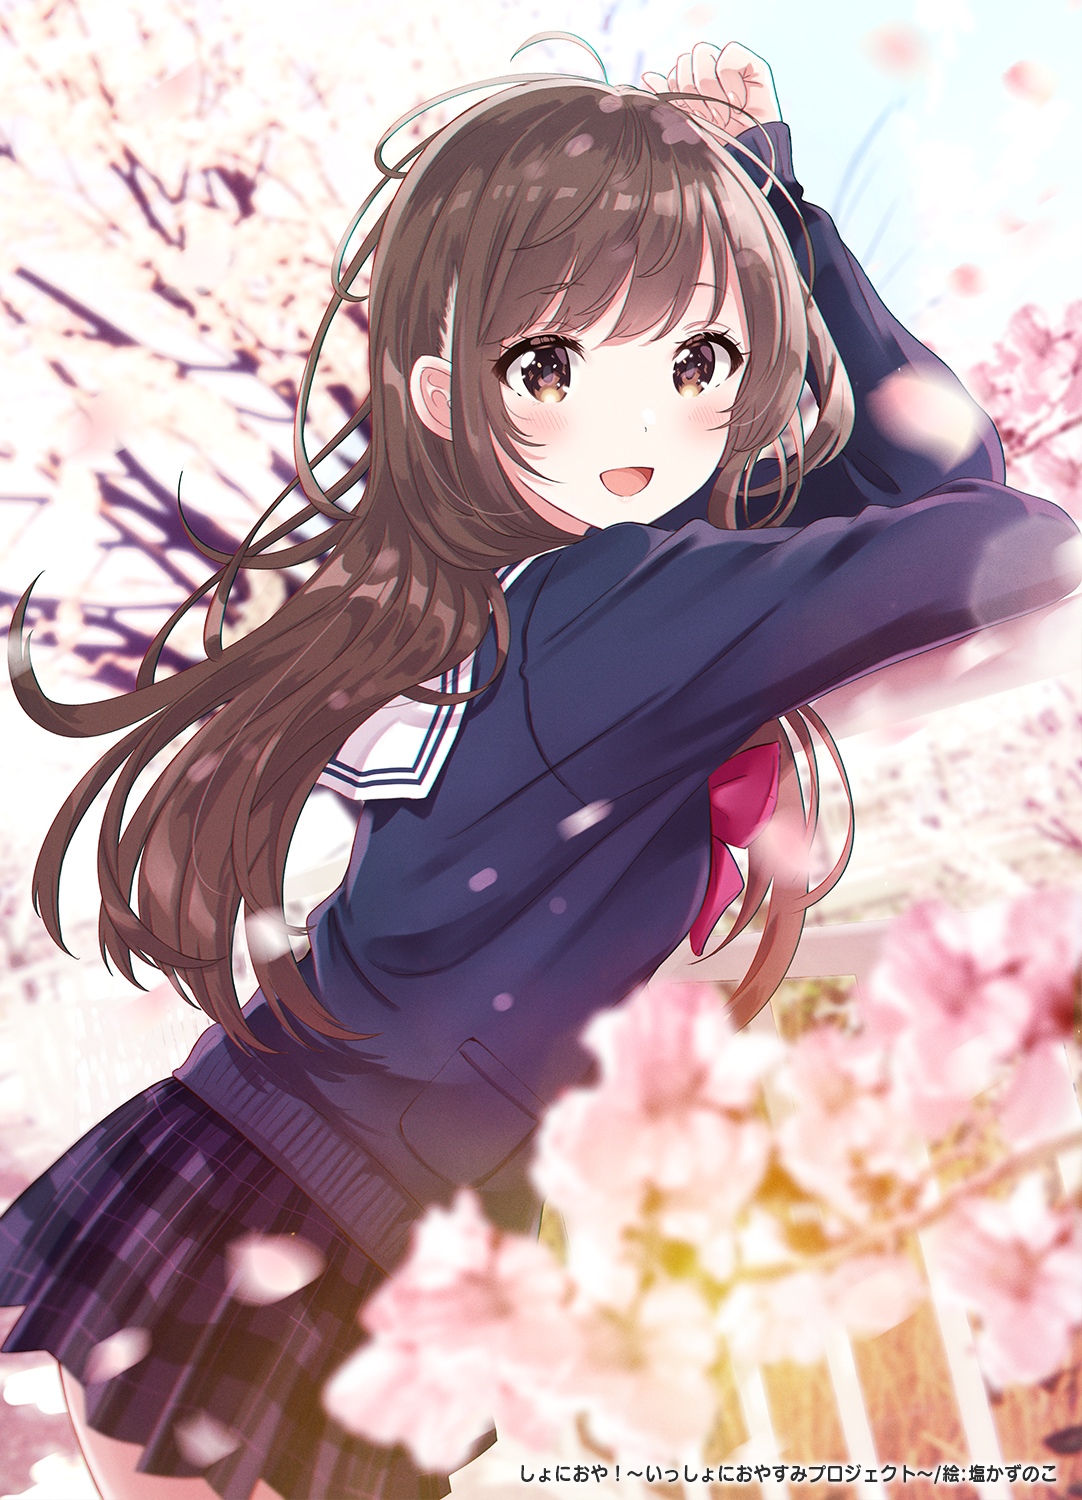纸片人正脸: (324, 50, 847, 555)
